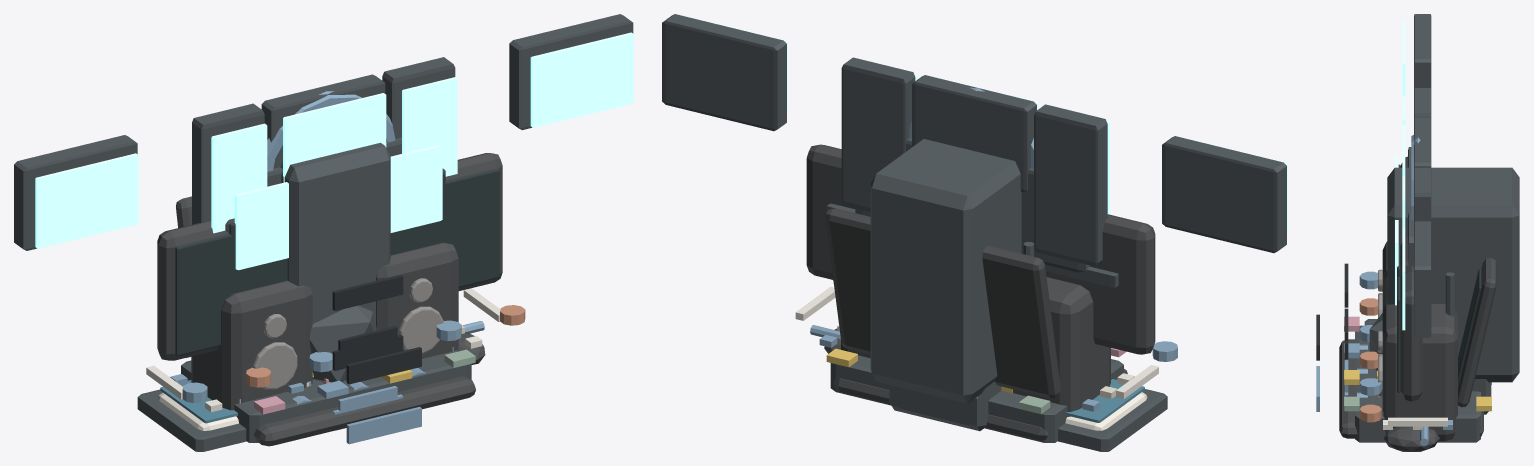
File: tech.glb
3 views of the same model, side by side, from view 1: azimuth 30°, elevation 25°; view 2: azimuth 150°, elevation 25°; view 3: azimuth 270°, elevation 25° (orthographic). The views are drawn at different scales.
Visible parts, largest first — view 1: HF_TripleMonitorRig, HF_DesktopTower, HF_Speakers_Pair, HF_Monitor_Ultrawide, HF_VerticalMonitorRig, HF_UltrawideMonitor, HF_MixingConsole, HF_Laptop_Open, HF_DrawingTablet, HF_Monitor_Standard, HF_TrackballMouse, HF_NASMini (+4 smaller); view 2: HF_TripleMonitorRig, HF_DesktopTower, HF_VerticalMonitorRig, HF_Laptop_Open, HF_Monitor_Ultrawide, HF_Speakers_Pair, HF_MixingConsole, HF_DrawingTablet, HF_NASMini, HF_UltrawideMonitor, HF_MIDIPad, HF_Keyboard_Mouse (+1 smaller); view 3: HF_DesktopTower, HF_Speakers_Pair, HF_TripleMonitorRig, HF_MixingConsole, HF_Laptop_Open, HF_Monitor_Ultrawide, HF_VerticalMonitorRig, HF_MIDIPad, HF_Keyboard_Mouse, HF_UltrawideMonitor, HF_NASMini, HF_Router (+5 smaller).
Part boxes in pixels (x1,y1,x2,y2): HF_TripleMonitorRig: (14,14,633,250); HF_DesktopTower: (280,142,421,444); HF_Speakers_Pair: (191,242,458,410); HF_Monitor_Ultrawide: (157,153,502,360); HF_VerticalMonitorRig: (192,57,457,233); HF_UltrawideMonitor: (234,137,442,270); HF_MixingConsole: (146,288,525,442); HF_Laptop_Open: (176,196,475,446); HF_DrawingTablet: (137,321,484,451); HF_Monitor_Standard: (225,168,445,293); HF_TrackballMouse: (309,305,376,382); HF_NASMini: (332,275,403,430); HF_TripleMonitorRig: (662,14,1287,287); HF_DesktopTower: (870,139,1021,403); HF_VerticalMonitorRig: (841,57,1109,266); HF_Laptop_Open: (825,208,1127,440); HF_Monitor_Ultrawide: (806,144,1155,354); HF_Speakers_Pair: (841,277,1110,416); HF_MixingConsole: (795,280,1177,442); HF_DrawingTablet: (810,325,1167,451); HF_NASMini: (889,381,1001,431); HF_UltrawideMonitor: (855,138,1089,272); HF_MIDIPad: (826,348,1126,413); HF_Keyboard_Mouse: (824,328,1147,430); HF_DesktopTower: (1316,167,1519,411); HF_Speakers_Pair: (1378,241,1457,441); HF_TripleMonitorRig: (1402,14,1431,337); HF_MixingConsole: (1355,271,1480,442); HF_Laptop_Open: (1339,258,1496,438); HF_Monitor_Ultrawide: (1397,156,1422,401); HF_VerticalMonitorRig: (1402,88,1431,228); HF_MIDIPad: (1344,316,1491,411); HF_Keyboard_Mouse: (1383,426,1439,451); HF_UltrawideMonitor: (1395,147,1413,305); HF_NASMini: (1344,263,1491,414); HF_Router: (1445,272,1454,316).
Bounding box in the file's own units: 1.92 × 0.905 × 0.646.
